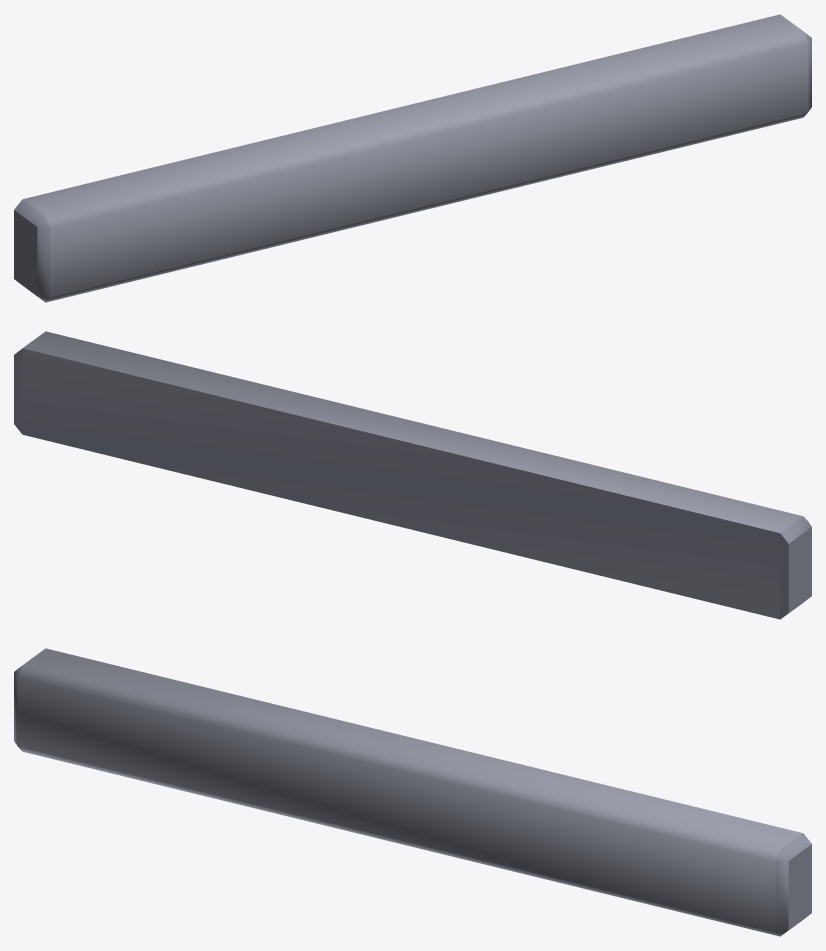
File: wall-shelf-bakery-end.glb
The picture shows the model from 3 angles, top to bottom: view 1: azimuth 30°, elevation 25°; view 2: azimuth 150°, elevation 25°; view 3: azimuth 330°, elevation 25°; orthographic projection.
Parts seen in each view (by area): view 1: wall_shelf_bakery_end; view 2: wall_shelf_bakery_end; view 3: wall_shelf_bakery_end.
Boxes of the visible parts, left/top/right/bottom form: wall_shelf_bakery_end: left=14, top=14, right=811, bottom=302; wall_shelf_bakery_end: left=14, top=331, right=811, bottom=619; wall_shelf_bakery_end: left=14, top=648, right=811, bottom=936.
Bounding box in the file's own units: 1.93 × 0.205 × 0.12.
1 material, 1 textured.
